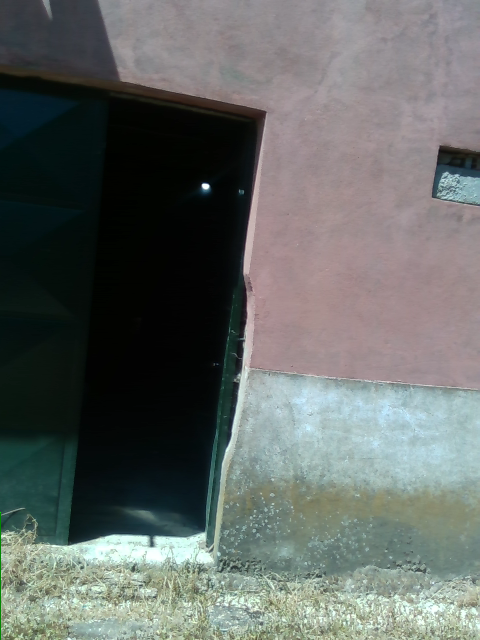open: (0, 45, 268, 559)
